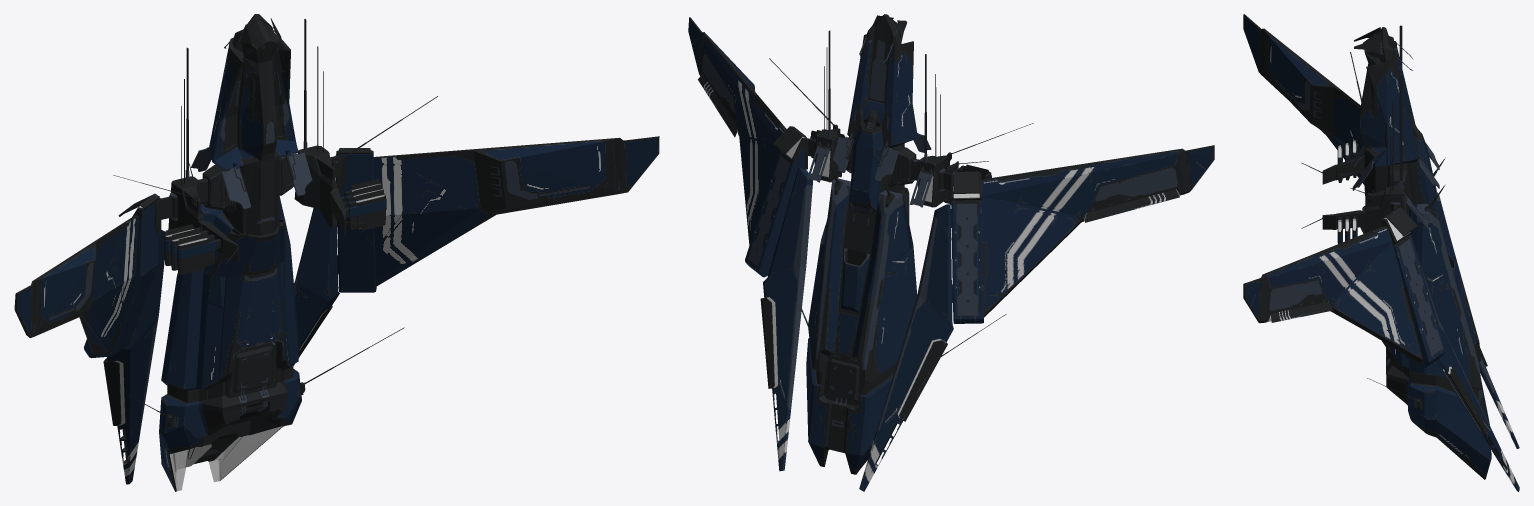
Rendered from Thunderchild.obj.
3 views of the same model, side by side, from view 1: azimuth 30°, elevation 25°; view 2: azimuth 150°, elevation 25°; view 3: azimuth 270°, elevation 25° (orthographic). The views are drawn at different scales.
Visible parts, largest first — view 1: group_0, group_1, group_2; view 2: group_0, group_2; view 3: group_0, group_2.
Boxes of the visible parts, x1,y1,x2,y2 form: group_0: (14,14,659,491); group_1: (169,228,360,491); group_2: (115,183,385,458); group_0: (688,14,1214,491); group_2: (702,74,1179,417); group_0: (1243,14,1519,491); group_2: (1267,140,1479,428).
Bounding box in the file's own units: 1017 × 776 × 439.
